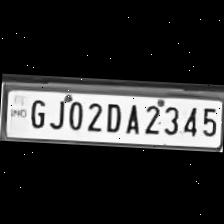0: (64, 94, 84, 130)
2: (82, 96, 104, 132), (140, 99, 162, 135)
3: (160, 101, 180, 135)
4: (179, 102, 199, 134)
5: (198, 102, 218, 136)
A: (120, 99, 142, 134)
D: (102, 98, 124, 132)
G: (25, 94, 47, 128)
J: (47, 93, 66, 129)
